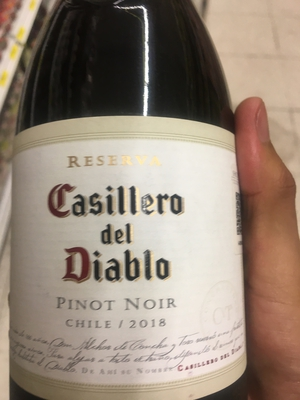casillero del diablo pinot noir: (12, 8, 254, 397)
